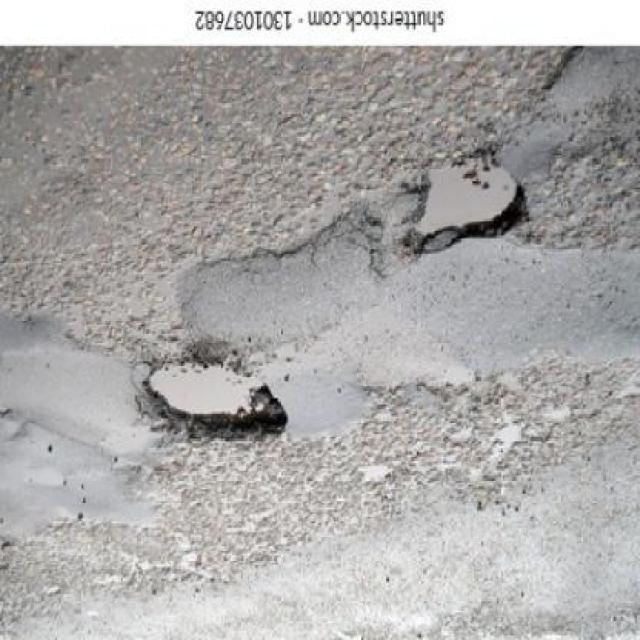pothole: (107, 329, 318, 471), (332, 128, 542, 262)
